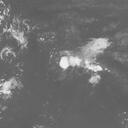cyclone: (58, 37, 109, 73)
